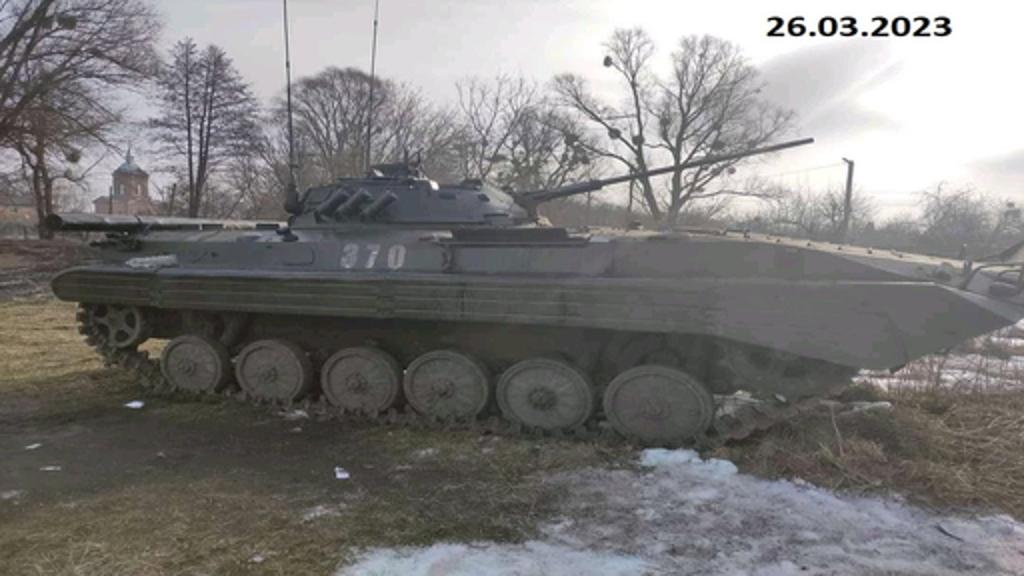APC-IFV: (40, 130, 1022, 456)
